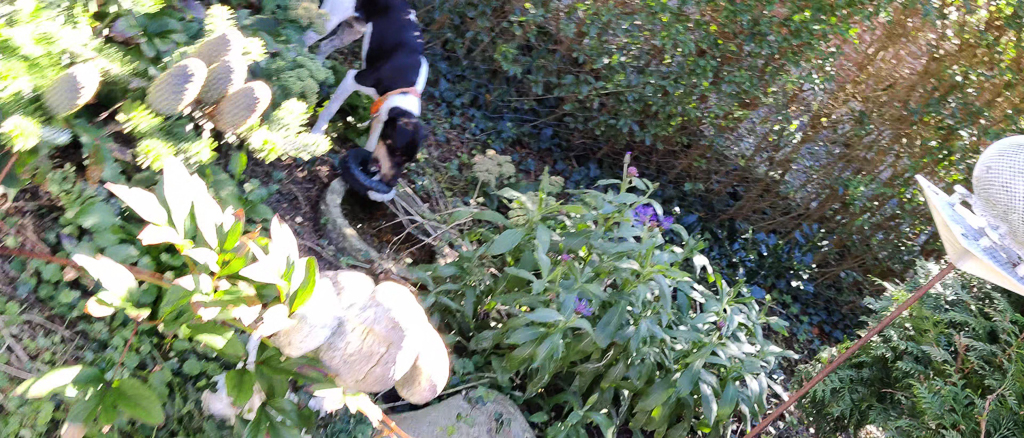Dog: (293, 0, 448, 208)
Eagle: (228, 259, 468, 426)
